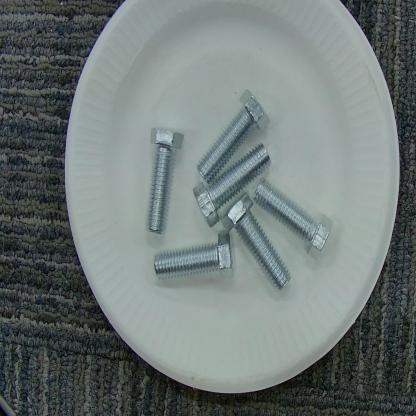FOD: (147, 87, 344, 295)
